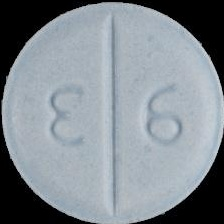54868-3377: (0, 0, 224, 224)
